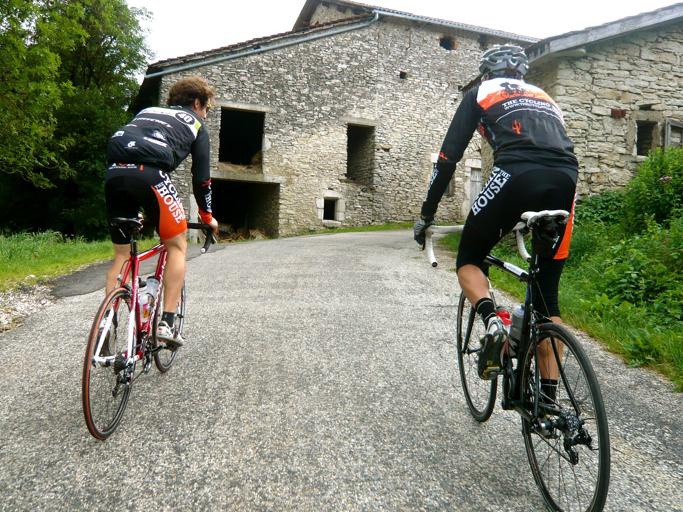non-vehicle: (410, 209, 611, 510), (79, 210, 216, 440)
